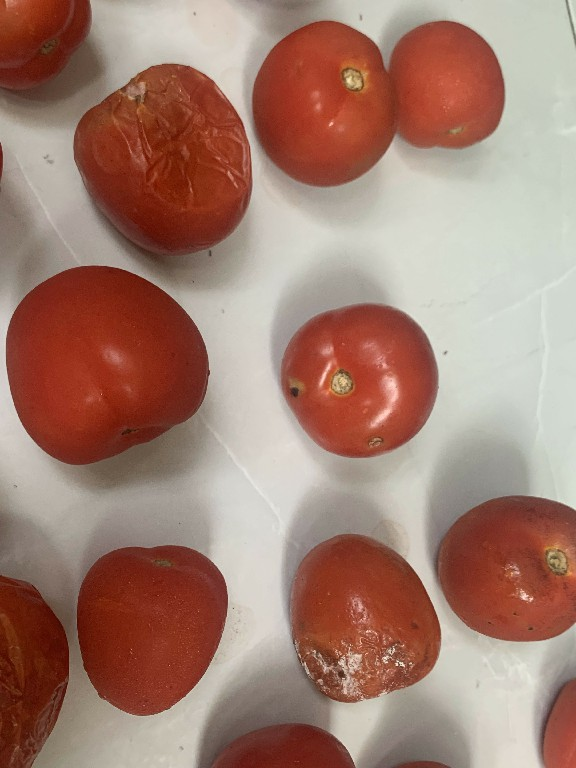NG: (62, 65, 255, 260), (280, 527, 445, 707), (275, 298, 439, 454), (430, 482, 576, 647)
OK: (0, 253, 218, 466), (69, 535, 236, 719), (248, 14, 394, 191), (376, 7, 461, 98)
